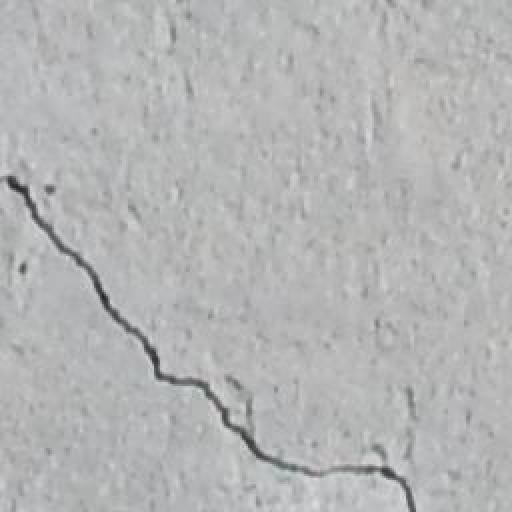spalling: (3, 165, 439, 502)
